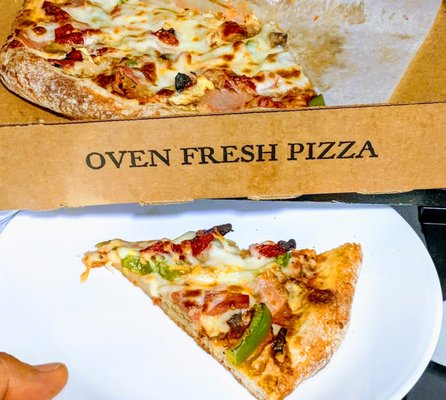sandwich: (70, 222, 364, 399), (0, 0, 354, 121)
